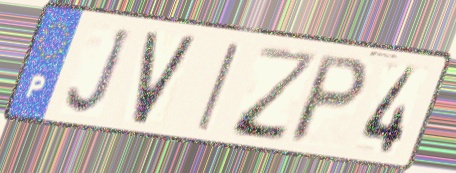4: (356, 61, 420, 157)
I: (192, 40, 243, 135)
J: (63, 26, 135, 119)
P: (284, 51, 374, 146)
V: (128, 29, 201, 128)
Z: (229, 43, 322, 145)
